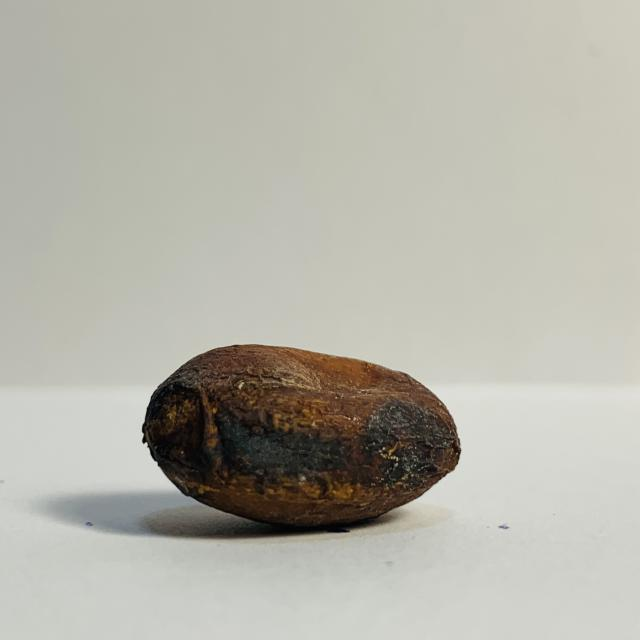Fine_cocoabeans: (29, 307, 521, 571)
